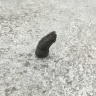Dog: (34, 31, 57, 58)
